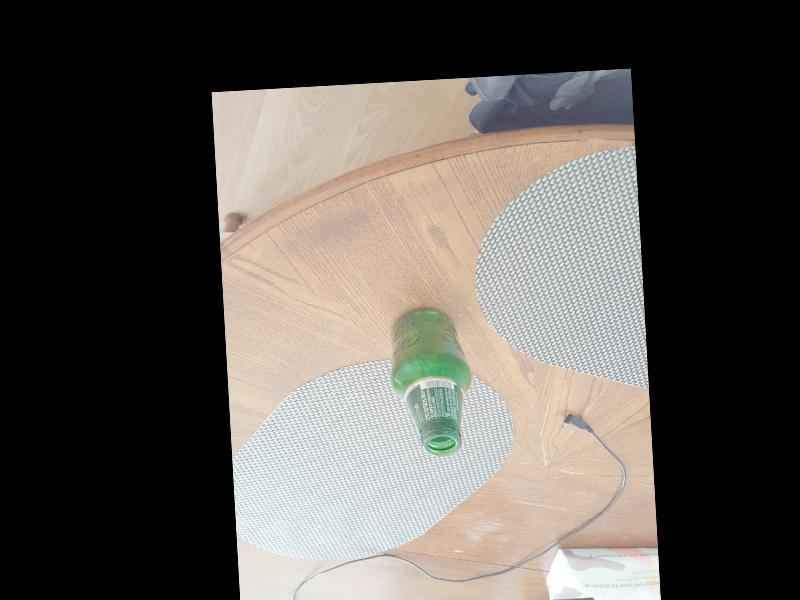Beer: (387, 305, 473, 459)
